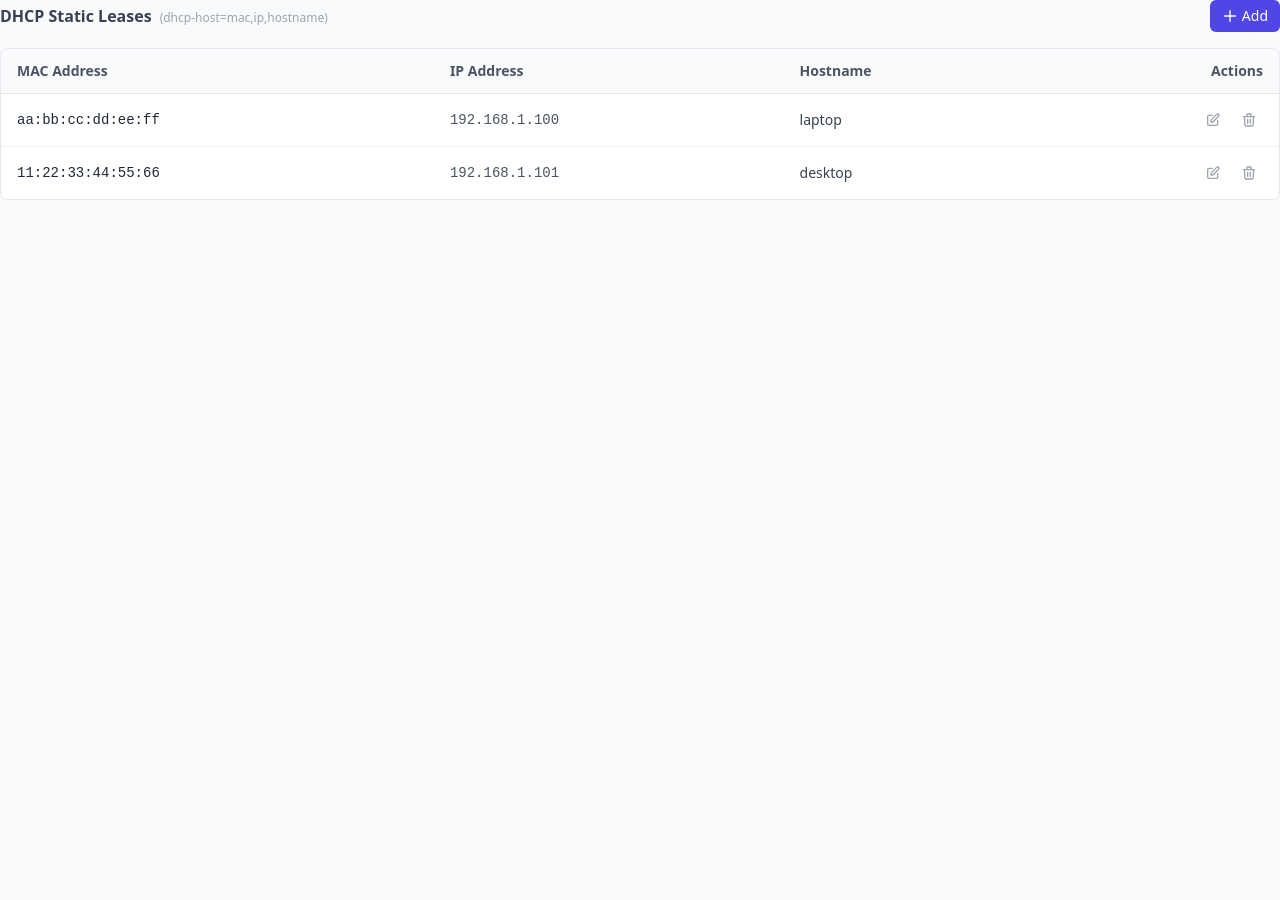
Test: DhcpTable › opens Add modal when Add button is clicked
Expected: the text "laptop" is shown, 784,94 -> 1041,146
What coordinates should you click on to do the following:
click the button "Add"
I would click on:
 (1245, 16)
Its box is 1210,0 -> 1279,32.
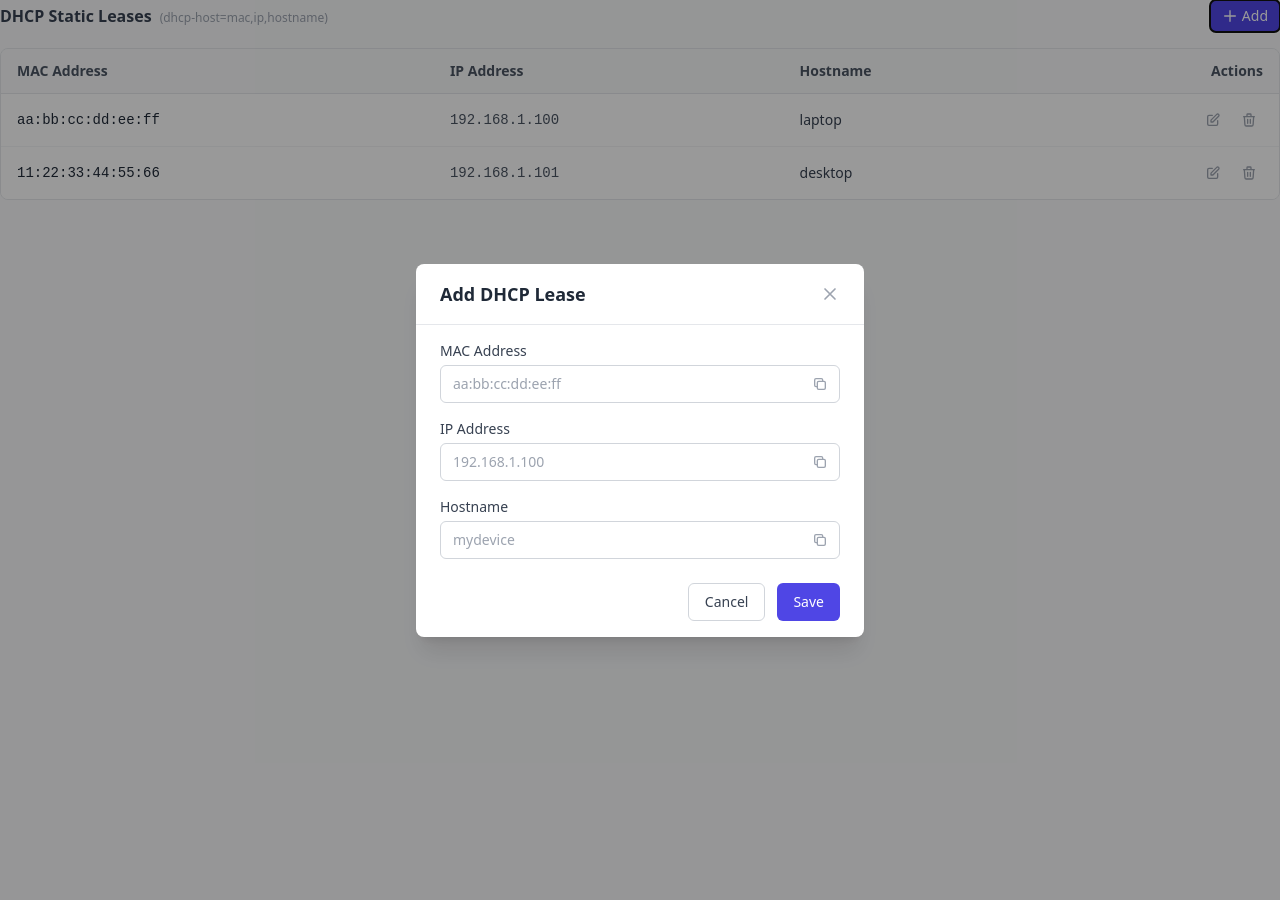
Result: the heading "Add DHCP Lease" is shown at 440,280 -> 586,308
